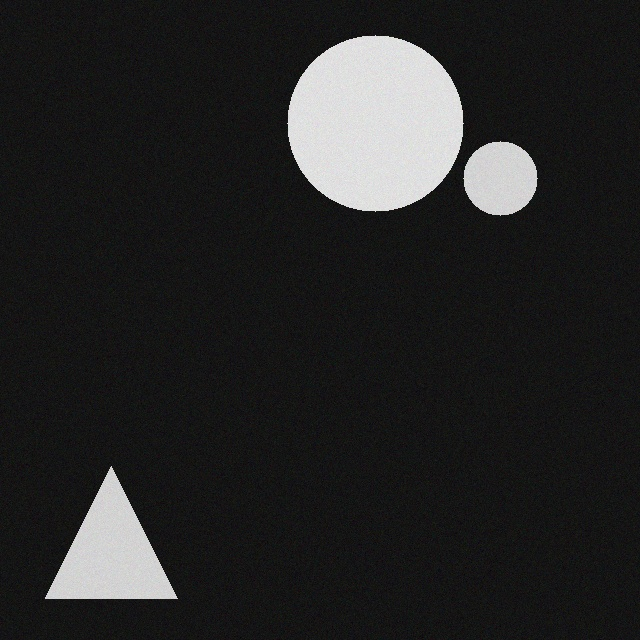circle: (288, 29, 464, 205), (464, 135, 538, 209)
triangle: (46, 460, 178, 592)
